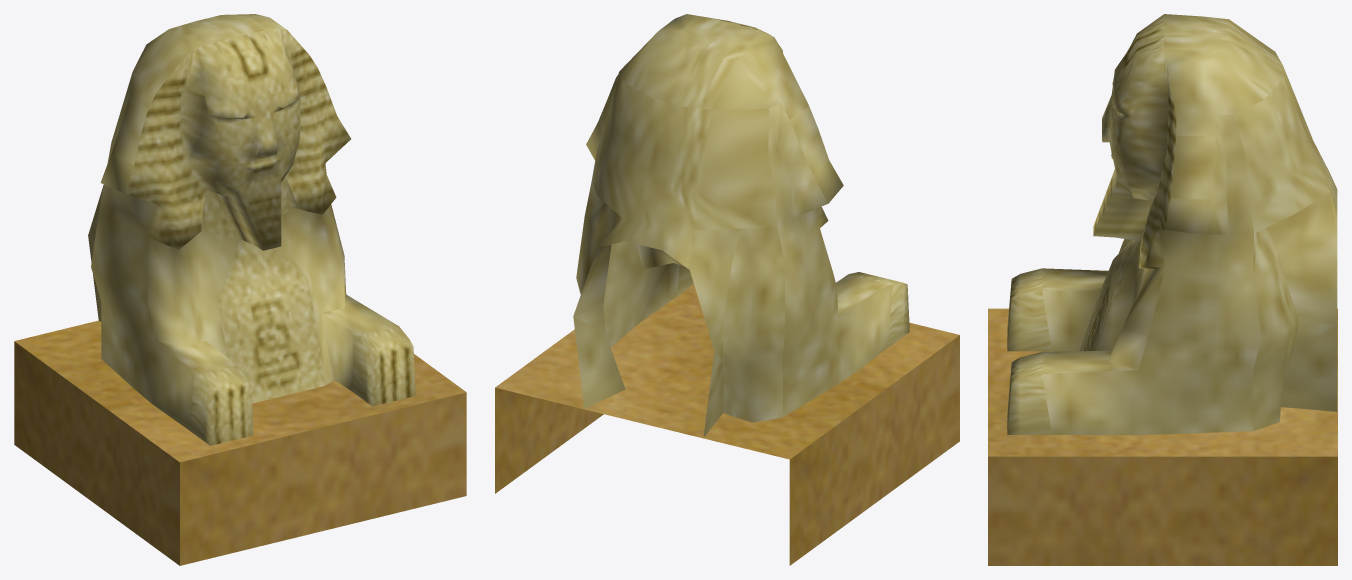
The model's file is egy_sphinx_head_sn.obj.
3 views of the same model, side by side, from view 1: azimuth 30°, elevation 25°; view 2: azimuth 150°, elevation 25°; view 3: azimuth 270°, elevation 25° (orthographic). The views are drawn at different scales.
Parts seen in each view (by area): view 1: tile_boundary01; view 2: tile_boundary01; view 3: tile_boundary01.
Boxes of the visible parts, <box> form: tile_boundary01: <box>14,14,466,565</box>; tile_boundary01: <box>495,14,959,565</box>; tile_boundary01: <box>988,14,1337,565</box>.
Bounding box in the file's own units: 1 × 1.45 × 1.
